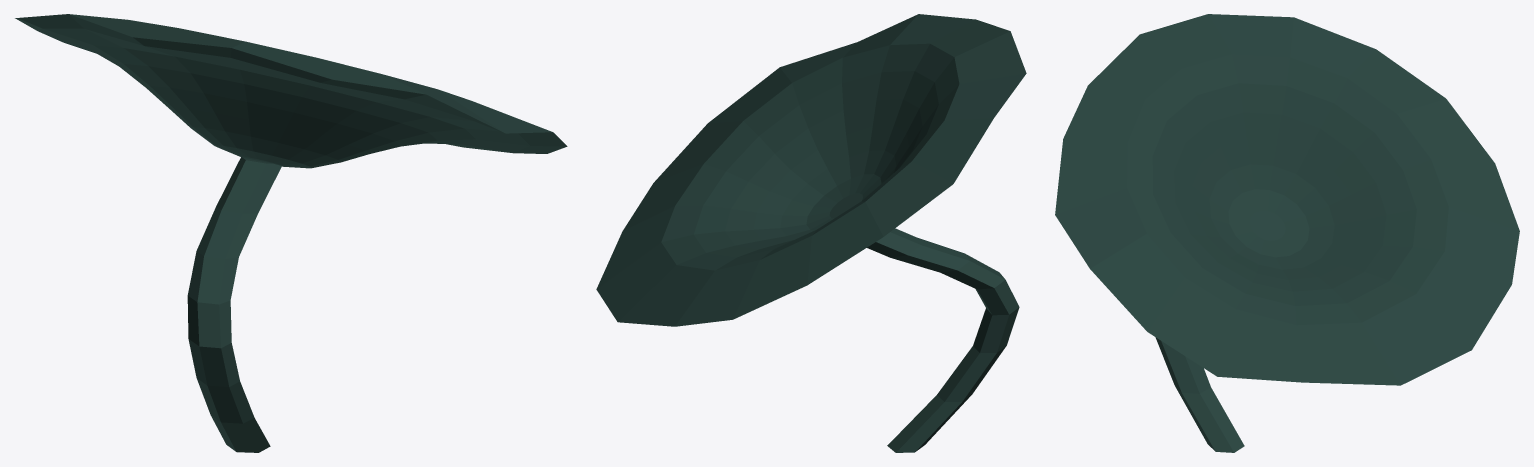
File: Plant_3.fbx
3 renders of one model, left to right at view 1: azimuth 30°, elevation 25°; view 2: azimuth 150°, elevation 25°; view 3: azimuth 270°, elevation 25°, orthographic. The views are drawn at different scales.
Visible parts, largest first — view 1: Cylinder; view 2: Cylinder; view 3: Cylinder.
Part boxes in pixels (<box>): Cylinder: <box>15,14,567,452</box>; Cylinder: <box>596,14,1026,452</box>; Cylinder: <box>1055,14,1519,452</box>.
Size of the model in its own units: 29.66 by 29.43 by 32.33.
